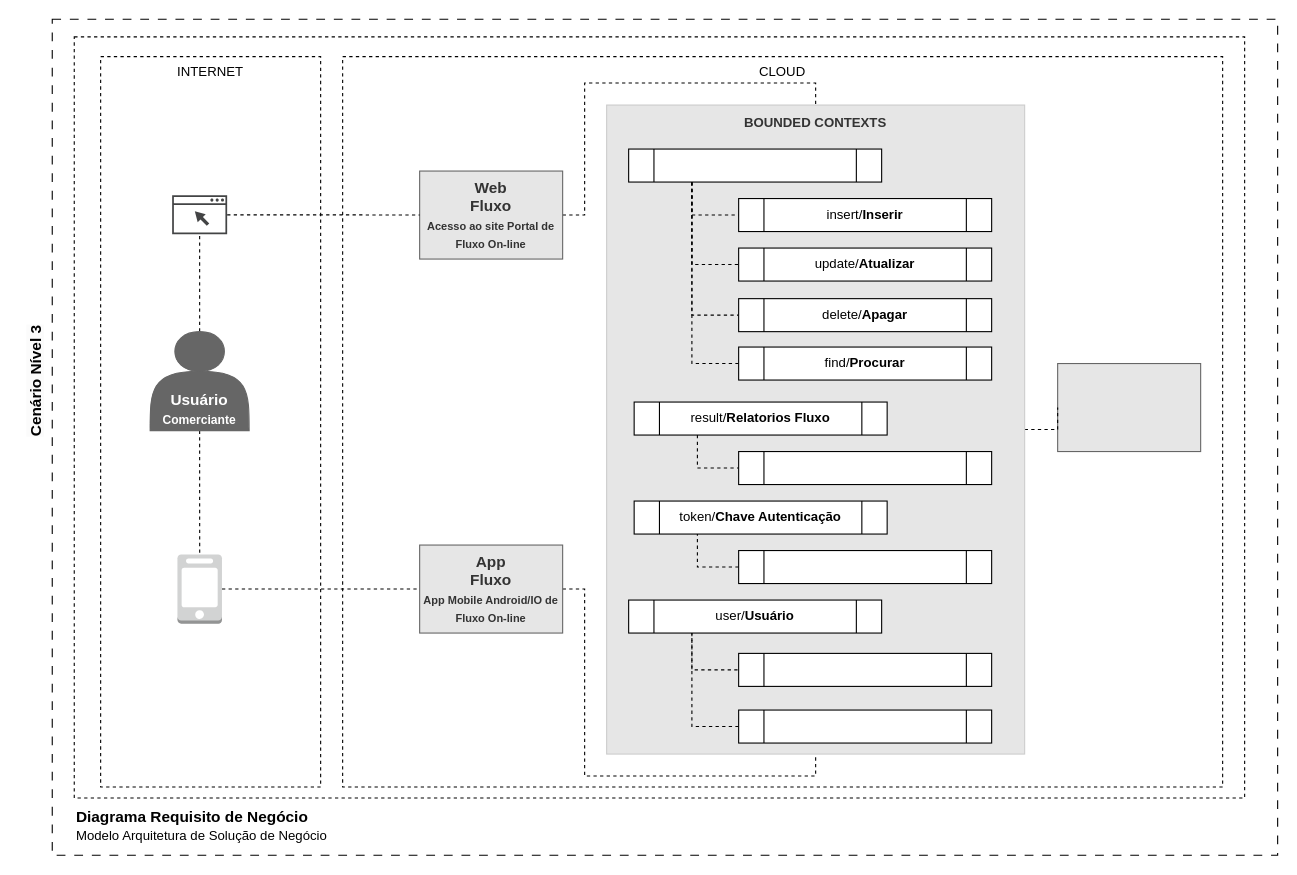
The diagram is 1297 pixels wide and 875 high, and some of its shapes have lost their labels. Each missing label, with the centre of its shape:
"Account/ Conta" goes at pixel 755 165.
"API Backend Microservice" goes at pixel 1129 407.
"auth/ Gerar Chave" goes at pixel 865 566.
"create/ Criar usuário" goes at pixel 865 726.
"list/ listar" goes at pixel 865 467.
"valid/ Validar" goes at pixel 865 669.
